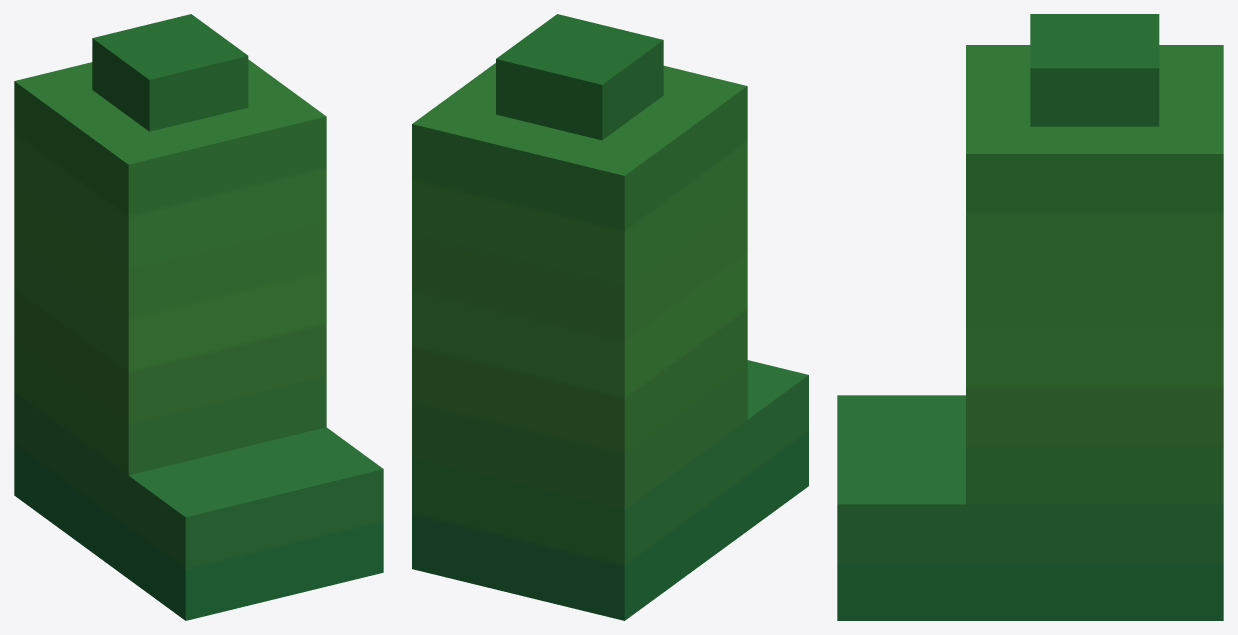
Rendered from Knee029.fbx.
3 views of the same model, side by side, from view 1: azimuth 30°, elevation 25°; view 2: azimuth 150°, elevation 25°; view 3: azimuth 270°, elevation 25° (orthographic). The views are drawn at different scales.
Parts seen in each view (by area): view 1: Knee029; view 2: Knee029; view 3: Knee029.
Boxes of the visible parts, bbox=[...] form: Knee029: bbox=[14, 14, 383, 620]; Knee029: bbox=[412, 14, 808, 620]; Knee029: bbox=[837, 14, 1223, 620].
Bounding box in the file's own units: 4 × 9 × 6.
